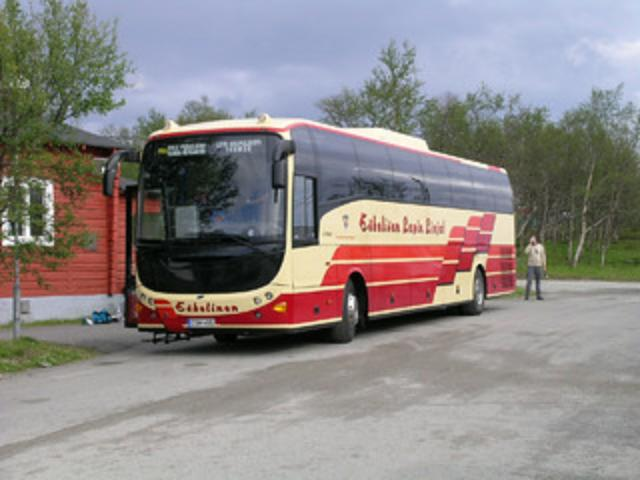bus: (100, 112, 518, 342)
